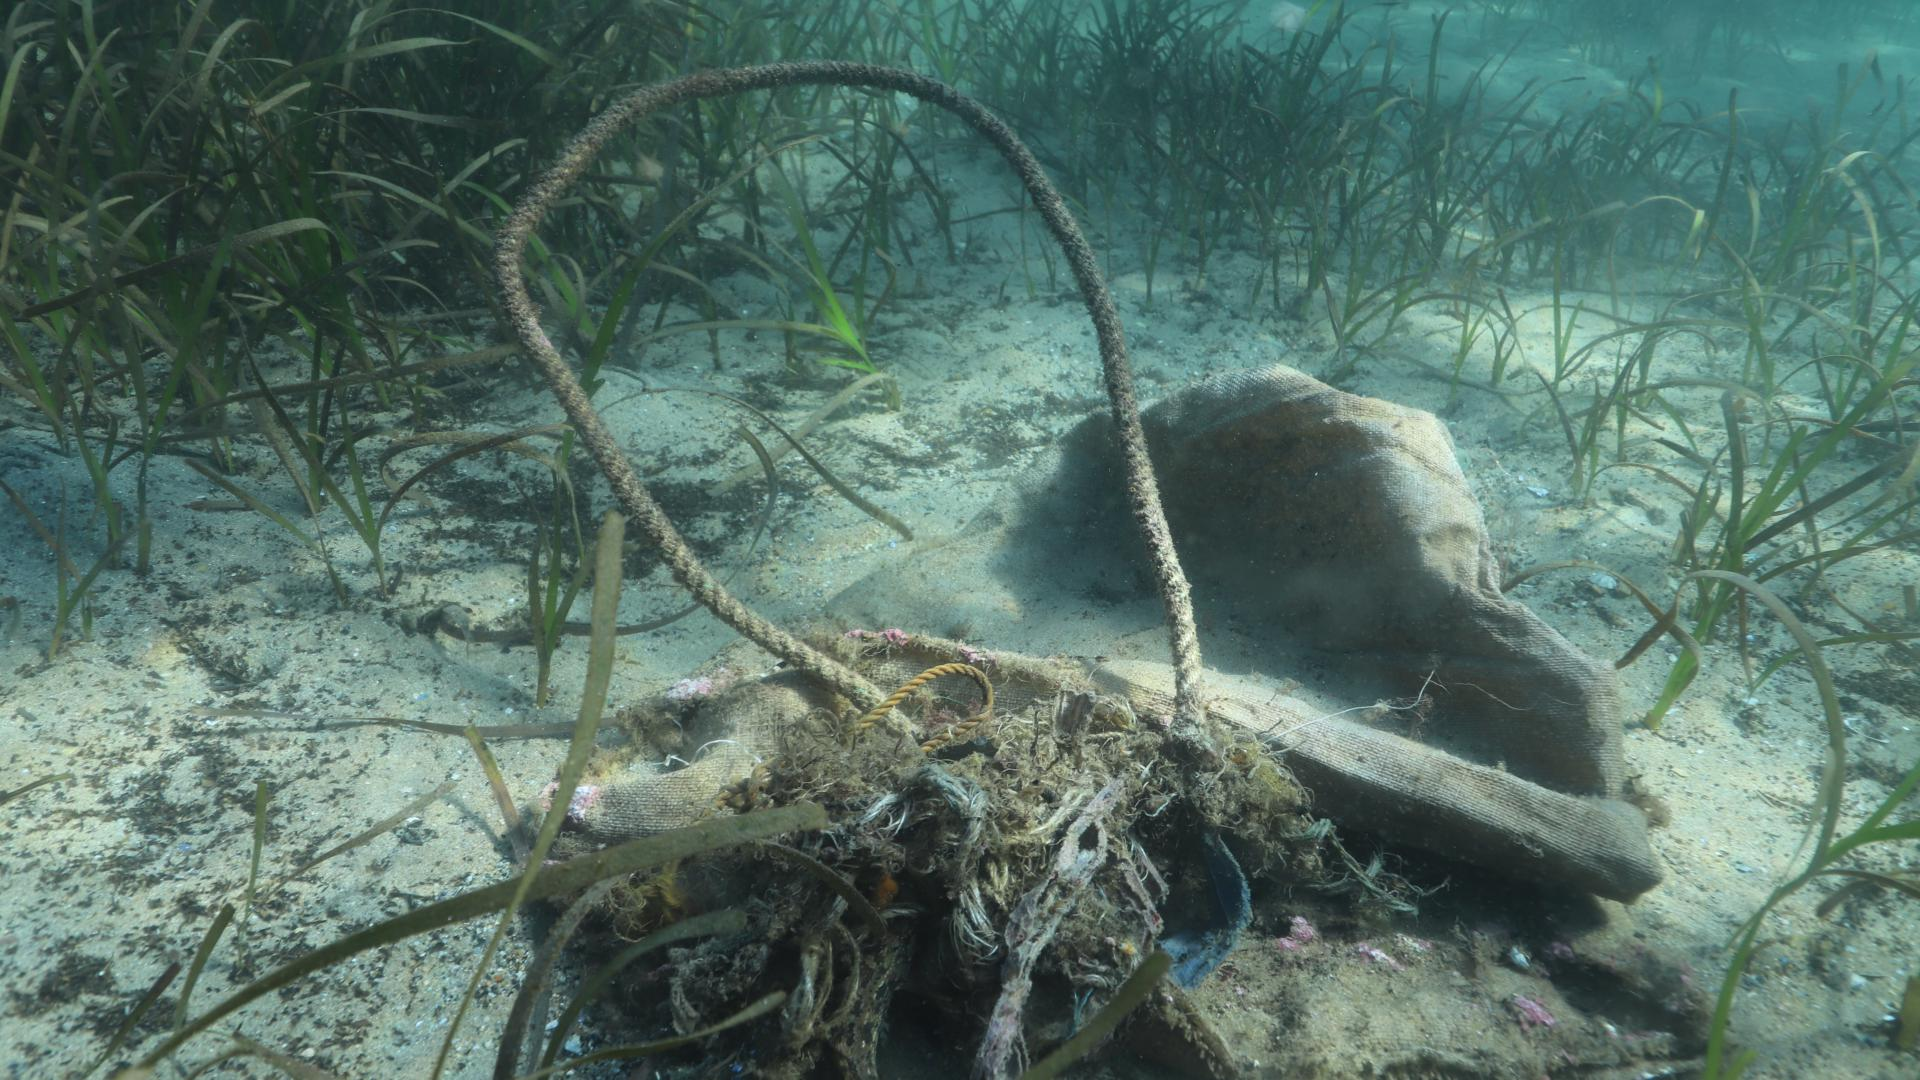rope: (488, 55, 1208, 785), (847, 658, 998, 758)
